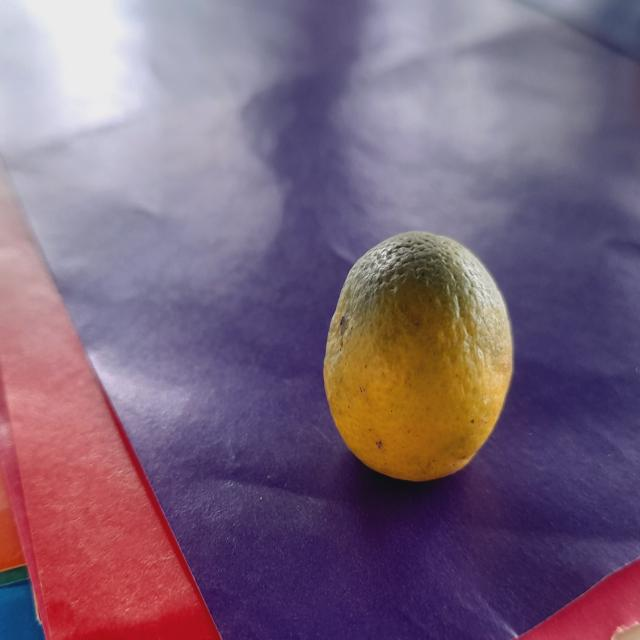greening: (310, 231, 530, 482)
